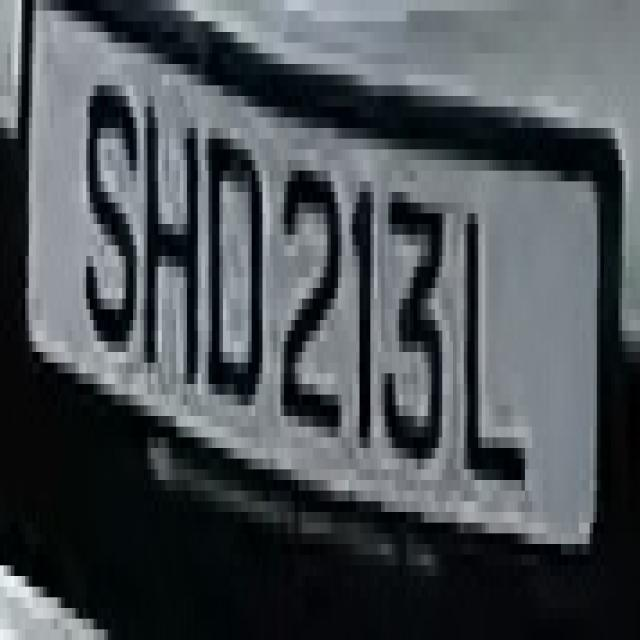1: (334, 128, 385, 491)
2: (284, 96, 345, 491)
3: (381, 117, 450, 491)
D: (205, 106, 266, 426)
H: (140, 64, 205, 416)
L: (456, 160, 536, 512)
S: (79, 32, 140, 395)
